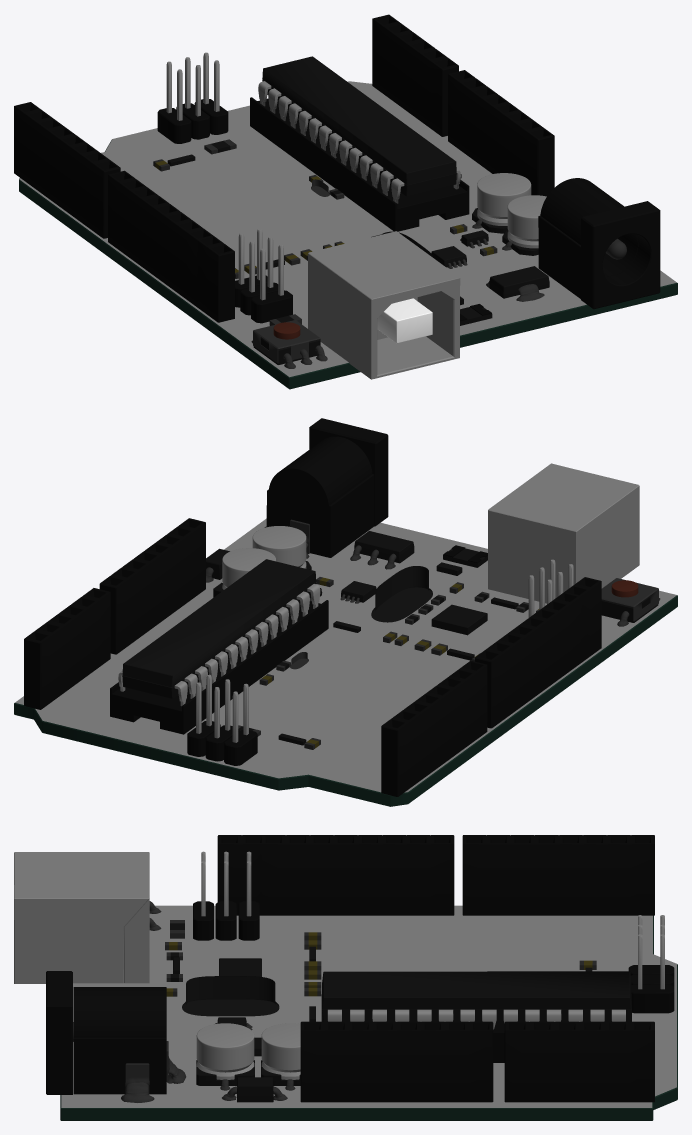
Rendered from arduino.FBX.
3 views of the same model, one above another, from view 1: azimuth 30°, elevation 25°; view 2: azimuth 150°, elevation 25°; view 3: azimuth 270°, elevation 25° (orthographic). The views are drawn at different scales.
Visible parts, largest first — view 1: plata, Box088, Cylinder004, Box038, Box002, Box003, Box004, Box001, Line029, Box005, Cylinder002, Box089 (+15 smaller); view 2: plata, Box088, Cylinder004, Box038, Box003, Box002, Box004, Box001, Line029, Line062, Box005, Cylinder001 (+13 smaller); view 3: plata, Box088, Box002, Box004, Box003, Cylinder004, Box001, Box038, Line062, Cylinder001, Box005, Cylinder002 (+10 smaller).
Part boxes in pixels (<box>): plata: <box>19,81,677,389</box>; Box088: <box>308,231,460,379</box>; Cylinder004: <box>538,178,660,309</box>; Box038: <box>262,56,456,184</box>; Box002: <box>448,70,554,196</box>; Box003: <box>14,102,120,238</box>; Box004: <box>108,170,214,307</box>; Box001: <box>372,14,458,136</box>; Line029: <box>250,97,432,231</box>; Box005: <box>197,236,234,322</box>; Cylinder002: <box>477,173,531,225</box>; Box089: <box>377,298,432,343</box>; plata: <box>14,518,677,806</box>; Box088: <box>488,463,639,603</box>; Cylinder004: <box>266,418,388,557</box>; Box038: <box>122,559,316,687</box>; Box003: <box>381,660,487,796</box>; Box002: <box>99,518,205,654</box>; Box004: <box>475,592,581,728</box>; Box001: <box>24,588,110,709</box>; Line029: <box>146,600,328,734</box>; Line062: <box>371,566,432,622</box>; Box005: <box>565,577,601,662</box>; Cylinder001: <box>252,526,306,568</box>; plata: <box>60,905,677,1120</box>; Box088: <box>14,852,149,983</box>; Box002: <box>300,1021,493,1102</box>; Box004: <box>261,835,454,915</box>; Box003: <box>462,835,654,915</box>; Cylinder004: <box>46,971,166,1094</box>; Box001: <box>504,1021,654,1102</box>; Box038: <box>322,971,631,1009</box>; Line062: <box>182,976,279,1016</box>; Cylinder001: <box>196,1023,254,1079</box>; Box005: <box>217,835,261,915</box>; Cylinder002: <box>261,1023,300,1079</box>.
Size of the model in its own units: 53.3 by 12.61 by 73.74.
